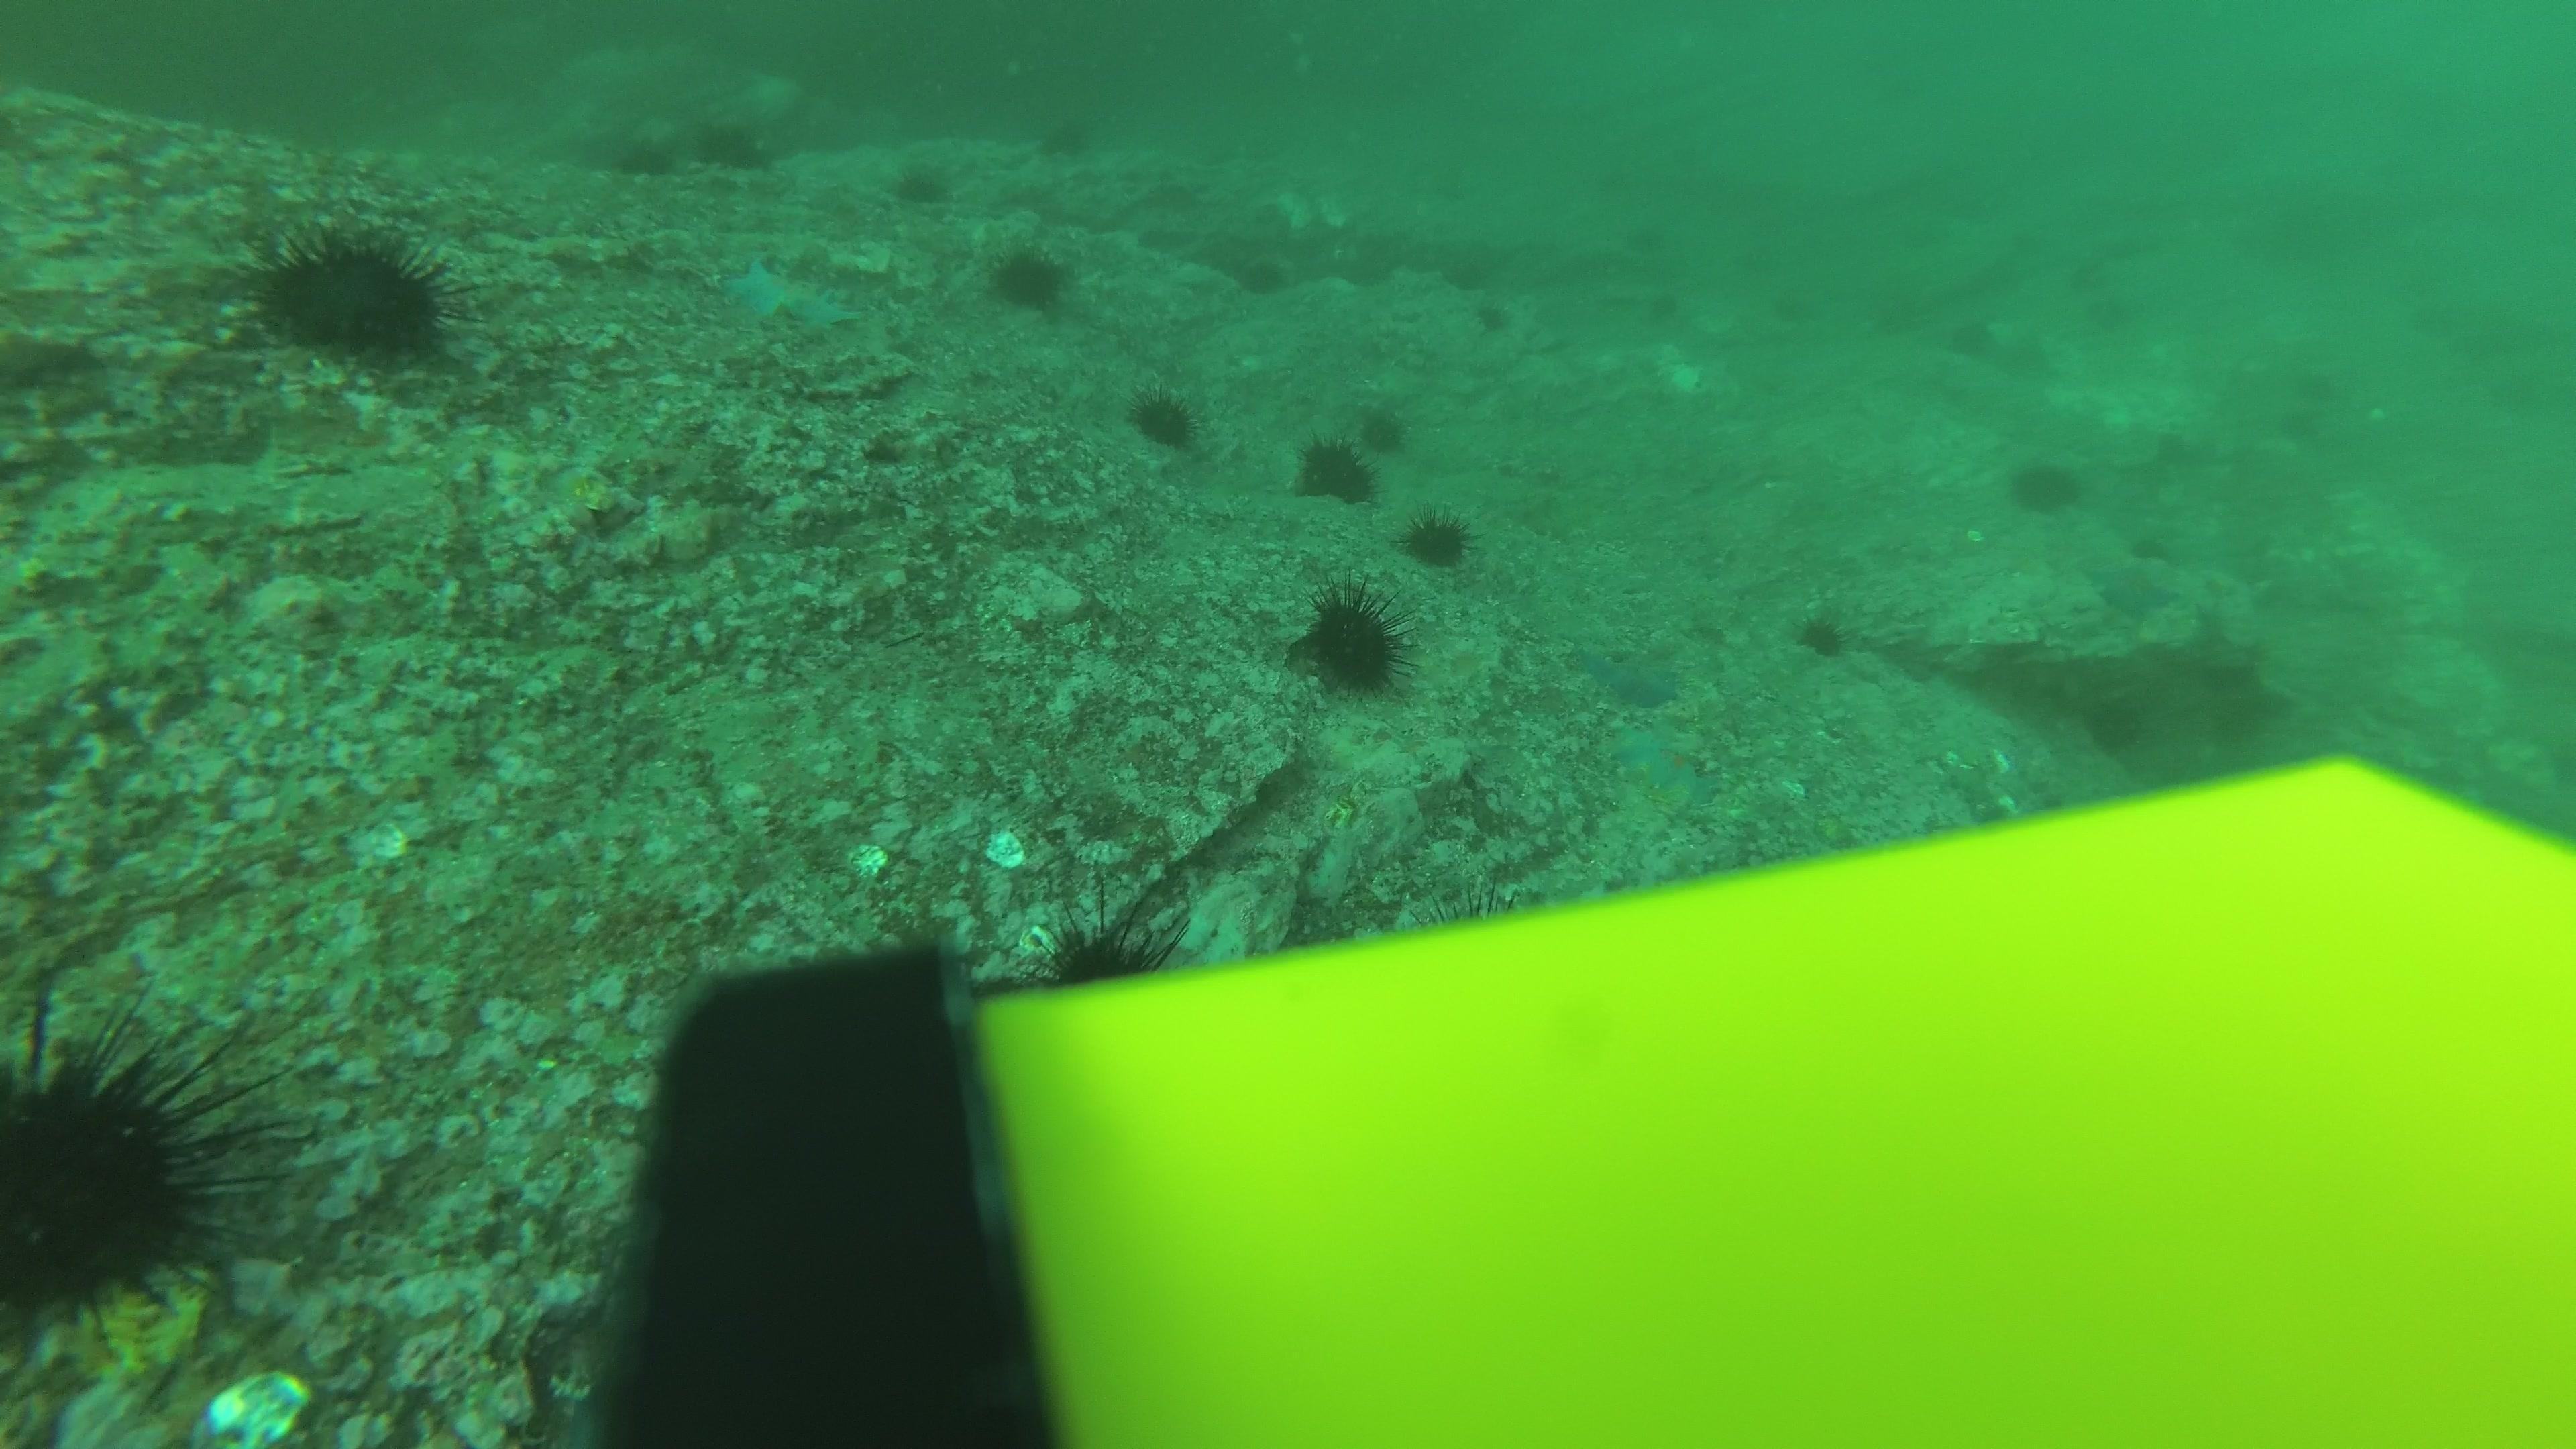echinus: (2, 993, 294, 1345), (249, 219, 460, 366), (1031, 904, 1182, 993), (1297, 586, 1410, 697), (987, 239, 1074, 311), (1293, 432, 1376, 506), (2005, 451, 2084, 517), (1127, 382, 1201, 451), (1341, 400, 1408, 472), (1401, 504, 1474, 570), (2082, 690, 2151, 755), (694, 113, 768, 173), (610, 126, 676, 179), (1035, 108, 1097, 161), (1792, 605, 1851, 660), (890, 157, 952, 209), (2273, 402, 2328, 453), (2288, 368, 2342, 419), (2061, 248, 2116, 299), (2074, 283, 2128, 334), (1233, 249, 1292, 297), (2134, 425, 2189, 474), (1943, 315, 1997, 364), (1472, 297, 1527, 347), (1435, 249, 1490, 299), (1615, 211, 1670, 260), (1943, 184, 1997, 234), (1120, 211, 1175, 260), (1767, 285, 1821, 334), (1633, 287, 1686, 336), (1897, 211, 1950, 260)
starfish: (718, 251, 860, 336), (1603, 720, 1720, 816), (1571, 639, 1686, 711), (2088, 556, 2183, 621)
